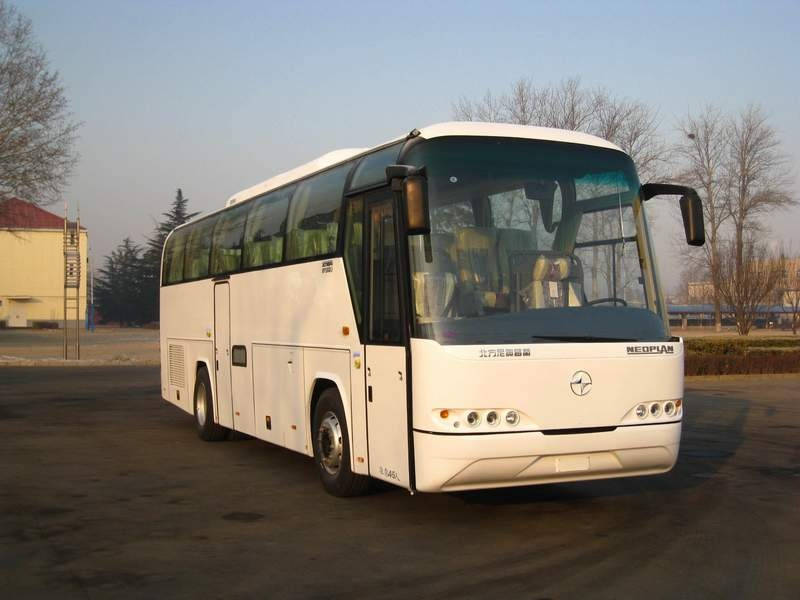bus: (130, 125, 707, 519)
